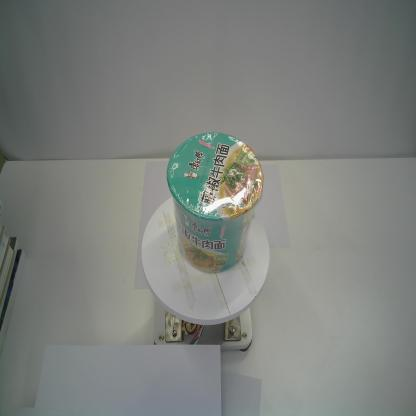Instant Noodles: (164, 129, 265, 277)
